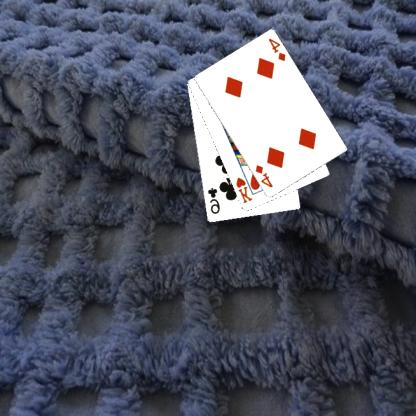4D: (254, 162, 276, 189), (268, 36, 289, 63)
9C: (206, 184, 223, 216)
KH: (235, 174, 256, 205)
